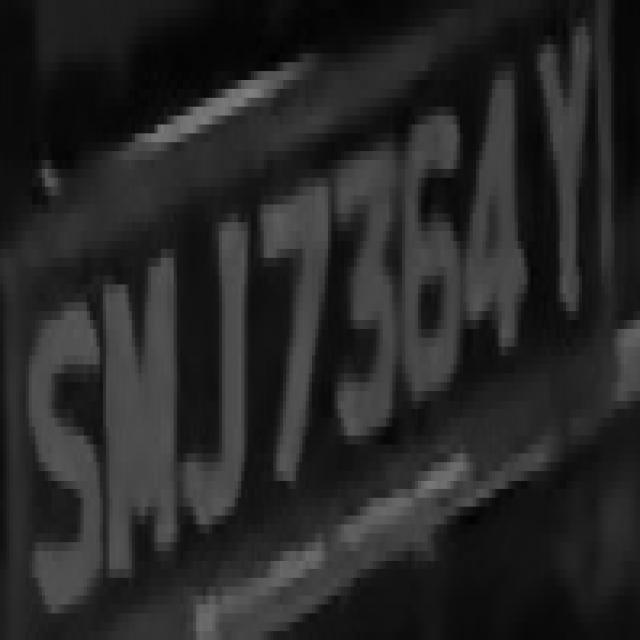3: (325, 107, 405, 489)
4: (454, 62, 537, 382)
6: (396, 80, 463, 409)
7: (251, 160, 325, 498)
J: (174, 169, 254, 560)
M: (96, 240, 177, 587)
S: (26, 293, 96, 640)
Y: (530, 0, 608, 338)
